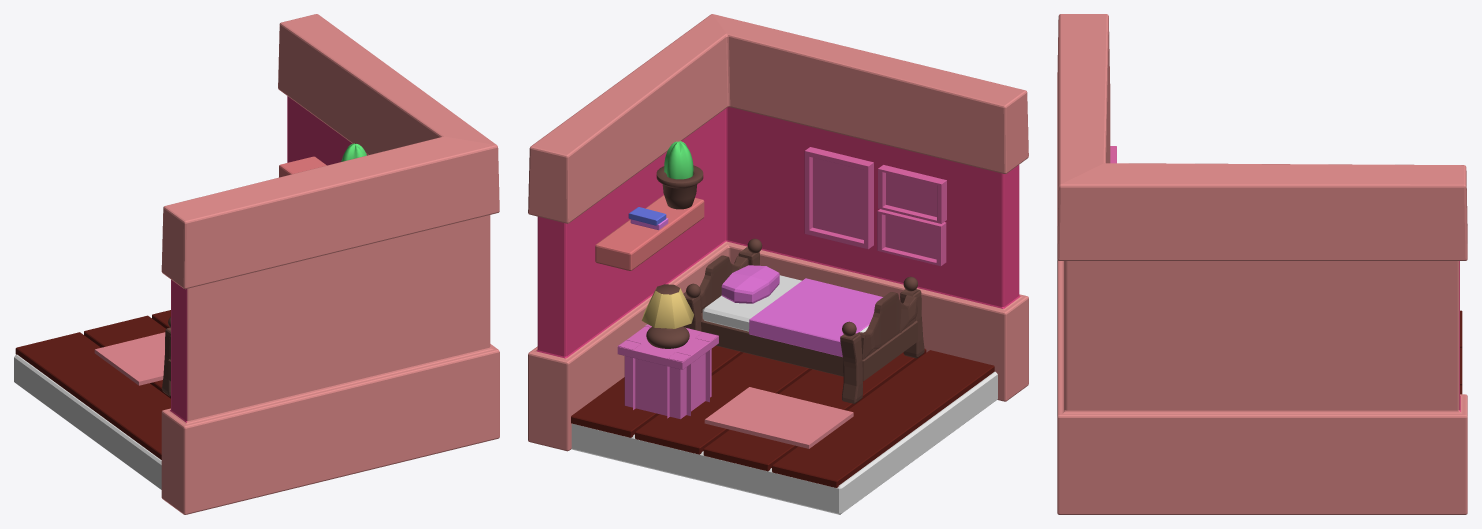
File: room.fbx
The picture shows the model from 3 angles, left to right: view 1: azimuth 30°, elevation 25°; view 2: azimuth 150°, elevation 25°; view 3: azimuth 270°, elevation 25°; orthographic projection. The views are drawn at different scales.
Parts seen in each view (by area): view 1: Cube, Plane.001, Plane, Plane.012, Cube.002; view 2: Cube, Plane.001, Cube.001, Plane, Plane.010, Plane.008, Plane.012, Plane.002, Sphere.001, Cube.002, Plane.003, Plane.005 (+6 smaller); view 3: Cube.
Boxes of the visible parts, x1,y1,x2,y2 form: Cube: (161,14,499,514); Plane.001: (15,310,170,459); Plane: (14,354,161,489); Plane.012: (94,332,165,385); Cube.002: (279,156,326,177); Cube: (528,14,1028,451); Plane.001: (571,346,994,487); Cube.001: (804,147,946,266); Plane: (571,371,997,514); Plane.010: (617,324,718,419); Plane.008: (749,278,882,357); Plane.012: (704,387,853,448); Plane.002: (701,312,917,381); Sphere.001: (641,165,703,348); Cube.002: (595,195,704,270); Plane.003: (857,292,917,359); Plane.005: (840,289,924,403); Cube: (1057,14,1467,514).
Size of what is drawn, in the model's own units: 230 by 206 by 230.
